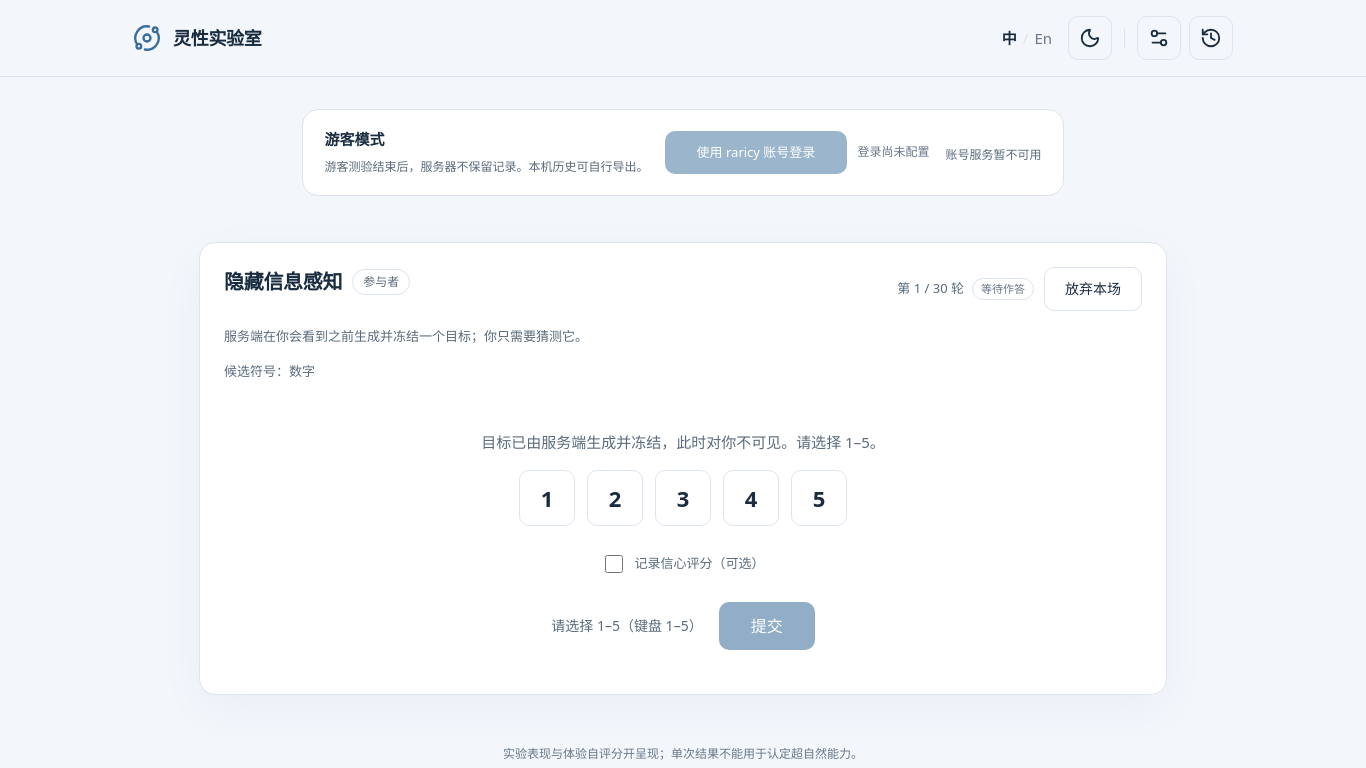
Test: changes an active experiment to English without starting another session
Expected: the radio button labelled "1" is shown, [519,470,575,526]
What coordinates should you click on to do the following:
click the button with aria-label "切换语言"
I would click on:
 (1027, 38)
Its box is [994,16,1060,60].
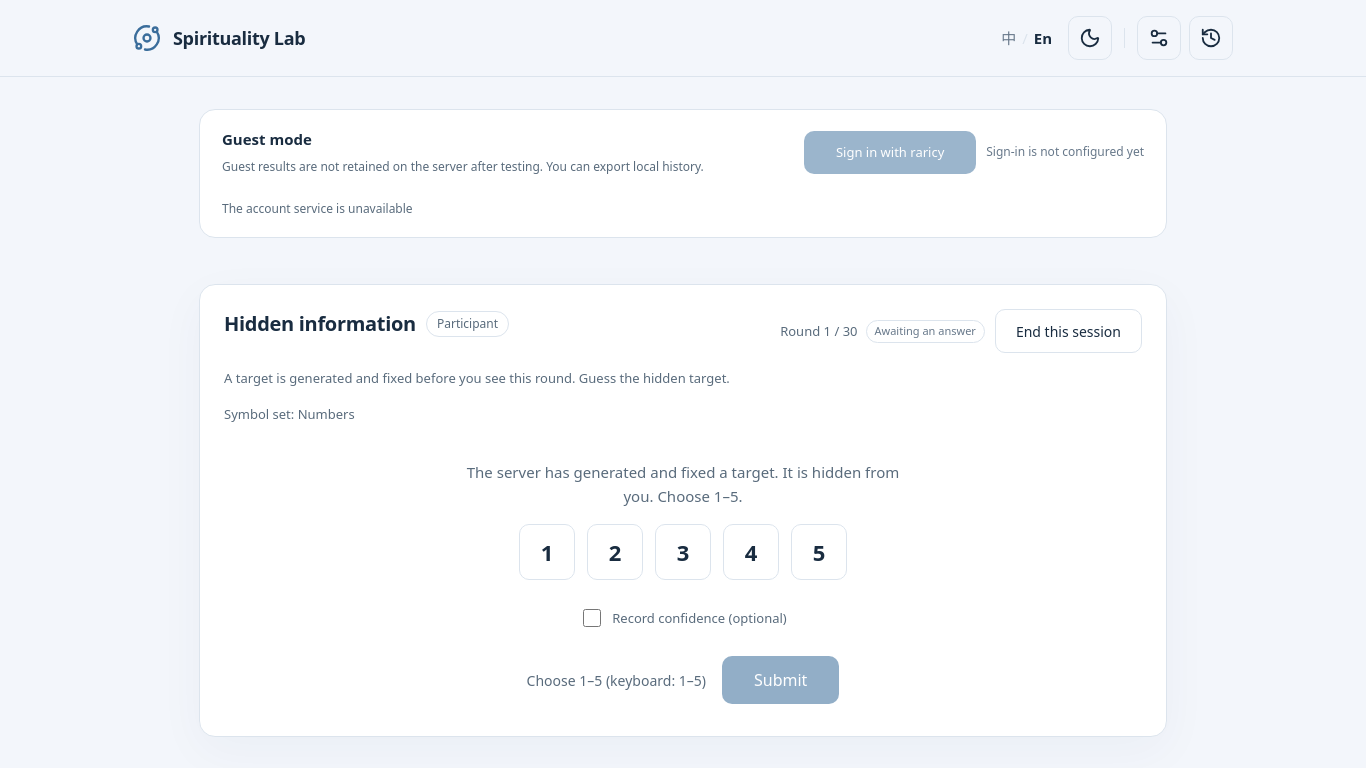
Expected: the heading "Hidden information" is shown, [224,309,416,339]
Expected: the button "Submit" is shown, [722,656,839,704]
